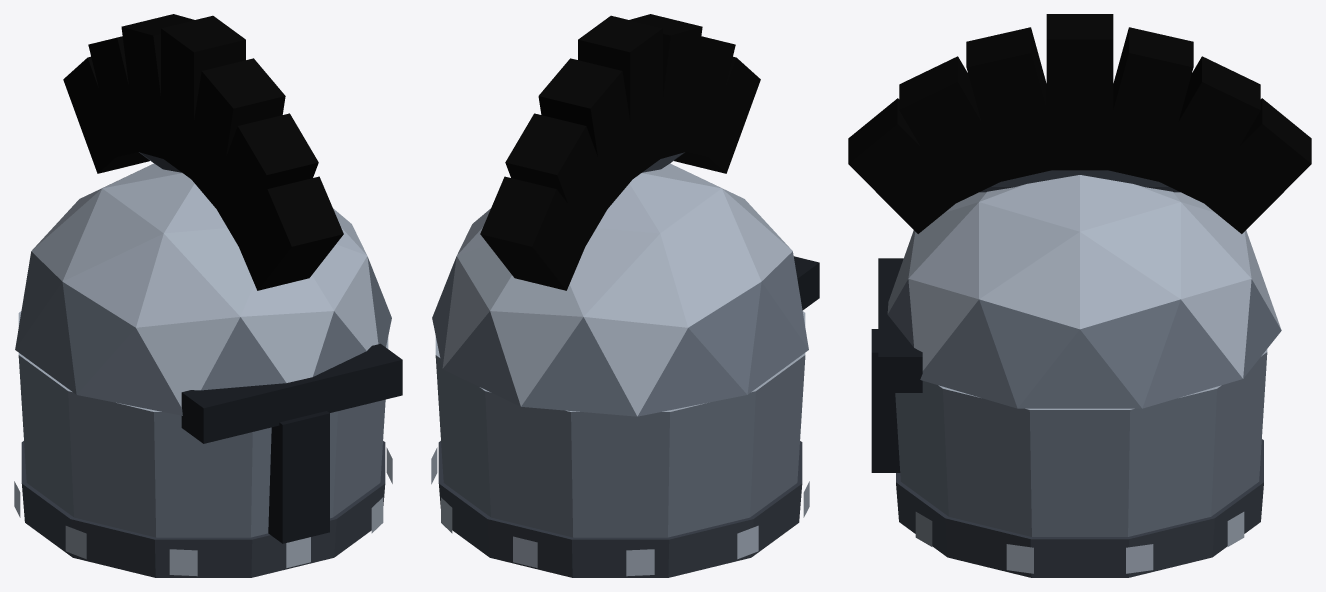
File: Res_Helmet.fbx
3 renders of one model, left to right at view 1: azimuth 30°, elevation 25°; view 2: azimuth 150°, elevation 25°; view 3: azimuth 270°, elevation 25°, orthographic.
Parts seen in each view (by area): view 1: Res_Helmet; view 2: Res_Helmet; view 3: Res_Helmet.
Part boxes in pixels (box(x1,y1,x2,y2)): Res_Helmet: box(14, 14, 402, 577); Res_Helmet: box(431, 14, 819, 577); Res_Helmet: box(848, 14, 1311, 577).
Bounding box in the file's own units: 0.339 × 0.4725 × 0.418.
